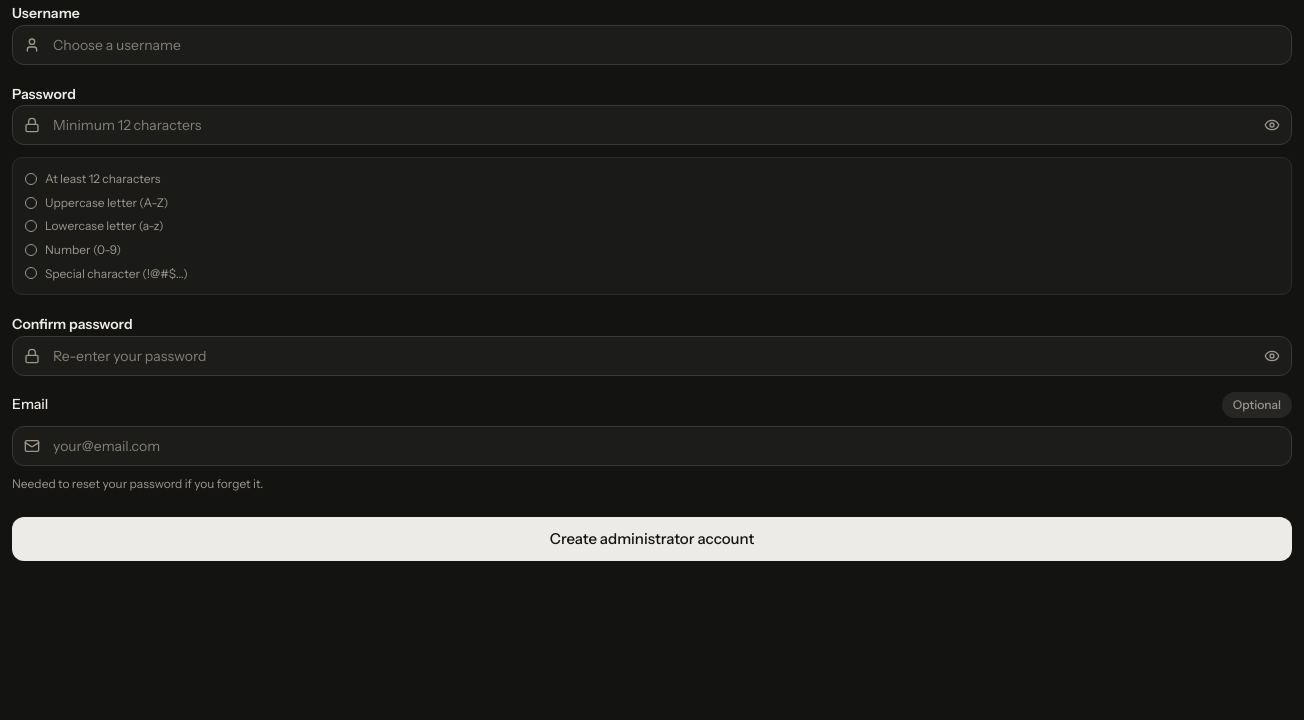
Scenario: SetupForm › shows the field errors
Step 1. Type "admin@localhost" into the field labelled "Email" → (652,446), box [12,426,1292,466]
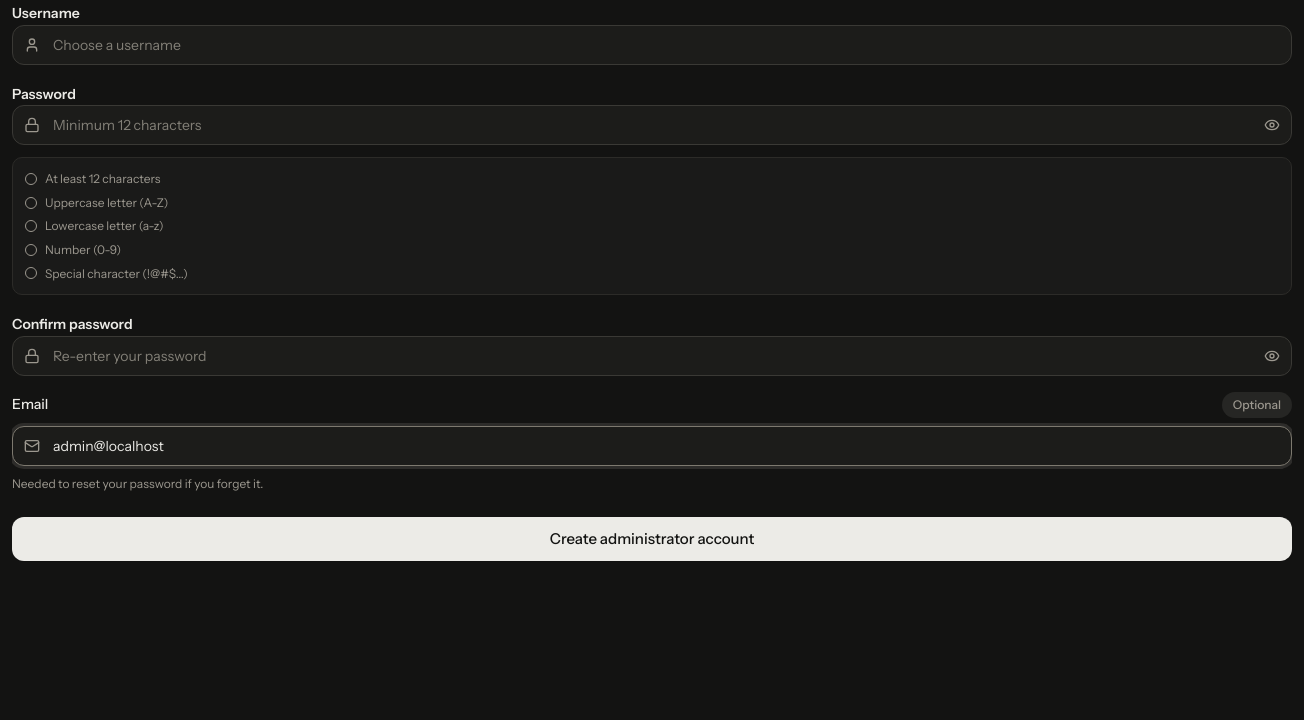
Step 2. Click the button "Create administrator account" → (652,539), box [12,517,1292,561]
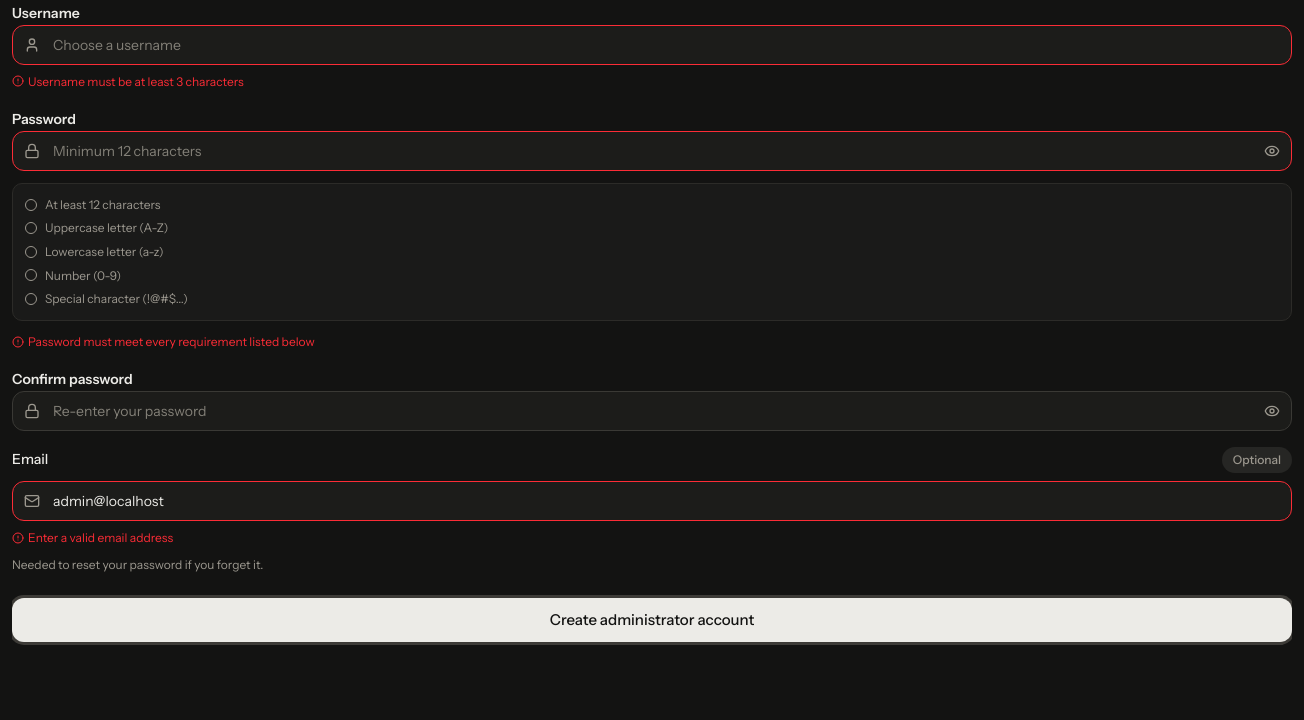
Result: the text "Username must be at least 3 characters" is shown at [12,74,244,89]
Result: the text "Password must meet every requirement listed below" is shown at [12,334,315,349]
Result: the text "Enter a valid email address" is shown at [12,530,173,545]
